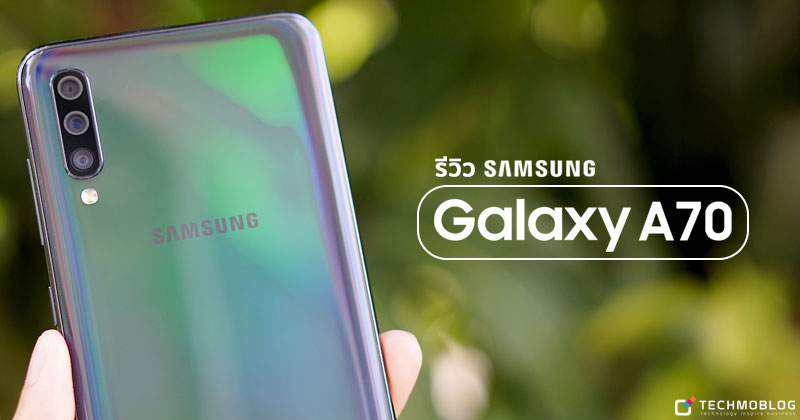Phone: (14, 11, 402, 420)
